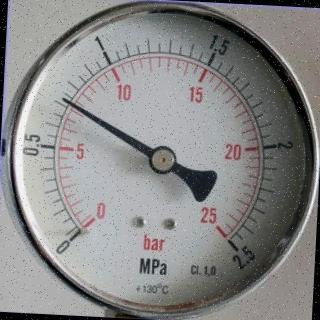gauge: (1, 1, 319, 319), (54, 221, 90, 255), (221, 234, 251, 266), (148, 144, 178, 174), (58, 93, 73, 107)
